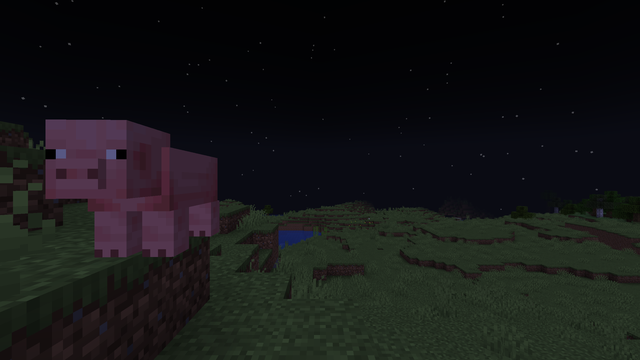cochons: (75, 144, 228, 256)
